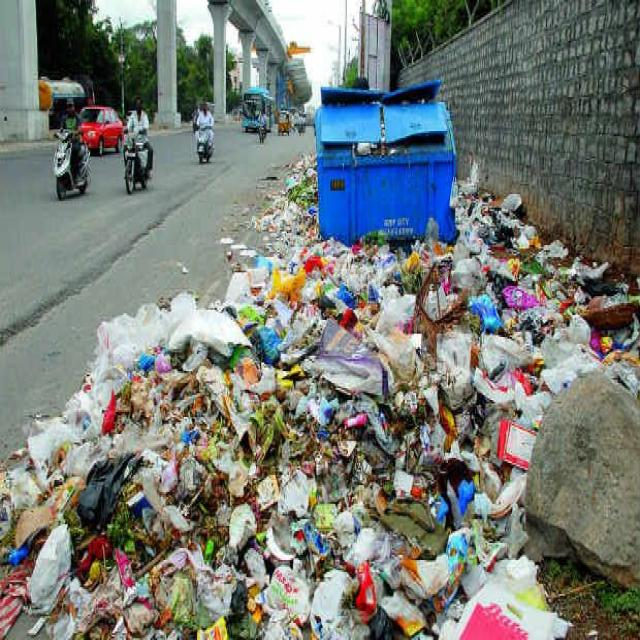garbage: (2, 64, 640, 640)
